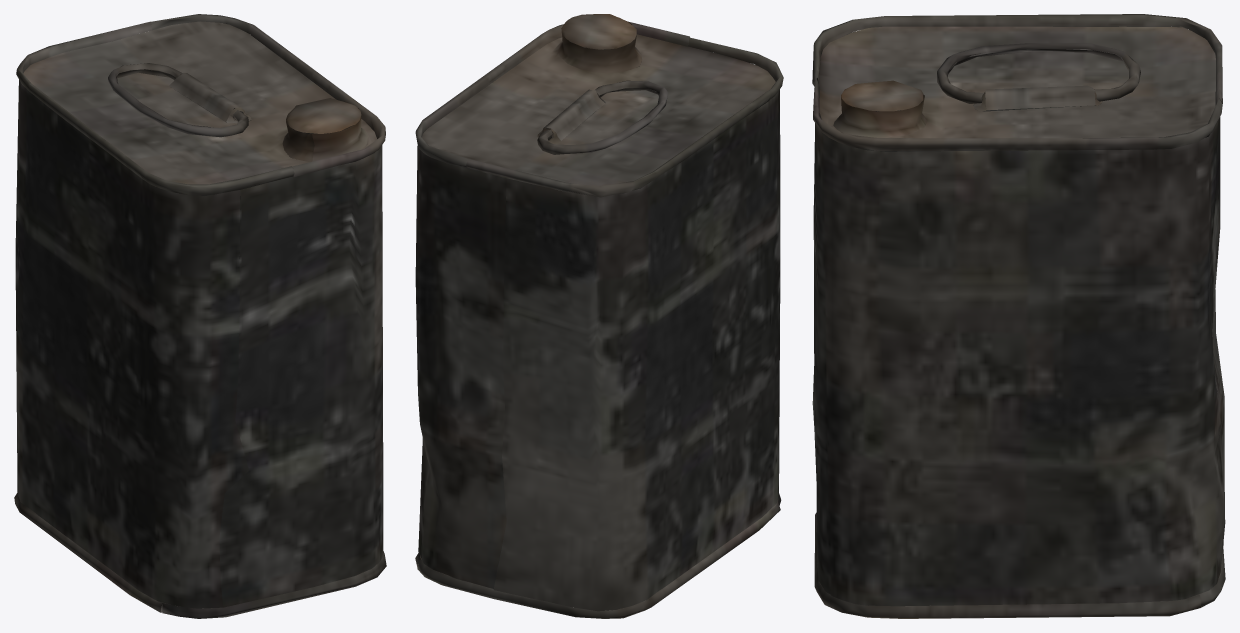
The model's file is oil_tin.glb.
The picture shows the model from 3 angles, left to right: view 1: azimuth 30°, elevation 25°; view 2: azimuth 150°, elevation 25°; view 3: azimuth 270°, elevation 25°; orthographic projection. The views are drawn at different scales.
Parts seen in each view (by area): view 1: oil_tin; view 2: oil_tin; view 3: oil_tin.
Part boxes in pixels (<box>): oil_tin: <box>14,14,386,618</box>; oil_tin: <box>415,14,783,618</box>; oil_tin: <box>812,14,1225,618</box>.
Size of the model in its own units: 0.1145 by 0.2053 by 0.1537.
Materials: 1 (1 with a texture image).
